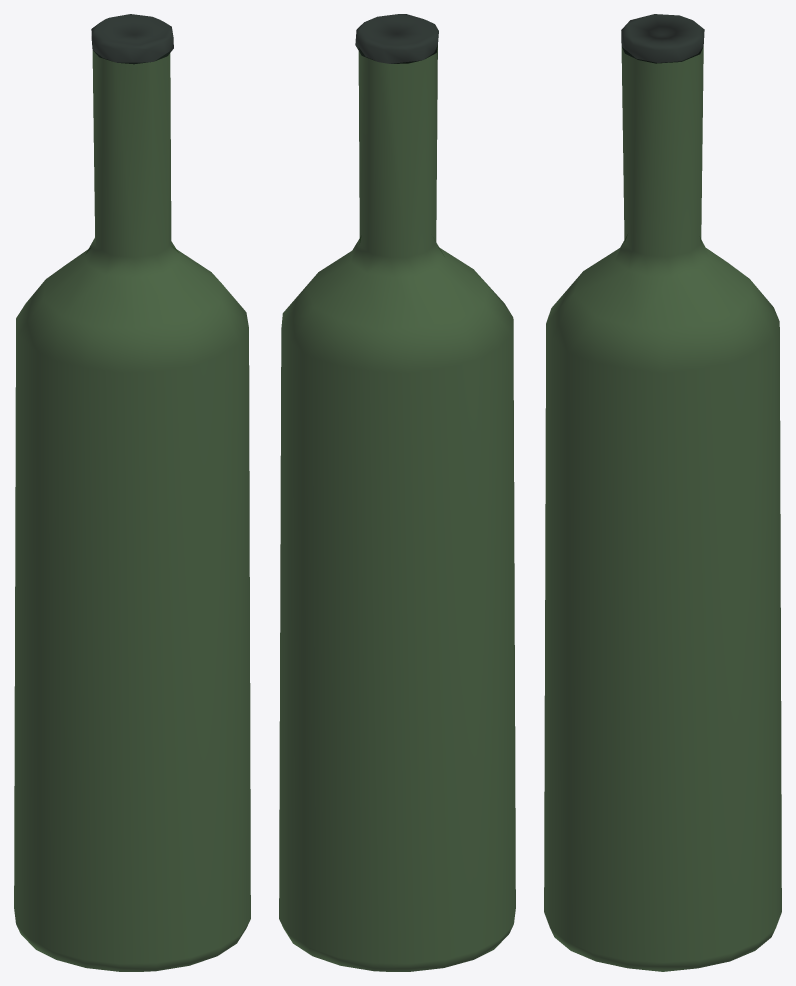
Rendered from 86f5d175-aef6-4775-bc48-55234bf92399.glb.
The picture shows the model from 3 angles, left to right: view 1: azimuth 30°, elevation 25°; view 2: azimuth 150°, elevation 25°; view 3: azimuth 270°, elevation 25°; orthographic projection.
Visible parts, largest first — view 1: WineBottle.003; view 2: WineBottle.003; view 3: WineBottle.003.
Boxes of the visible parts, x1,y1,x2,y2 form: WineBottle.003: (14,14,250,971); WineBottle.003: (279,14,515,971); WineBottle.003: (544,14,781,971).
Size of the model in its own units: 0.1009 by 0.4203 by 0.1009.
1 material, 1 textured.
